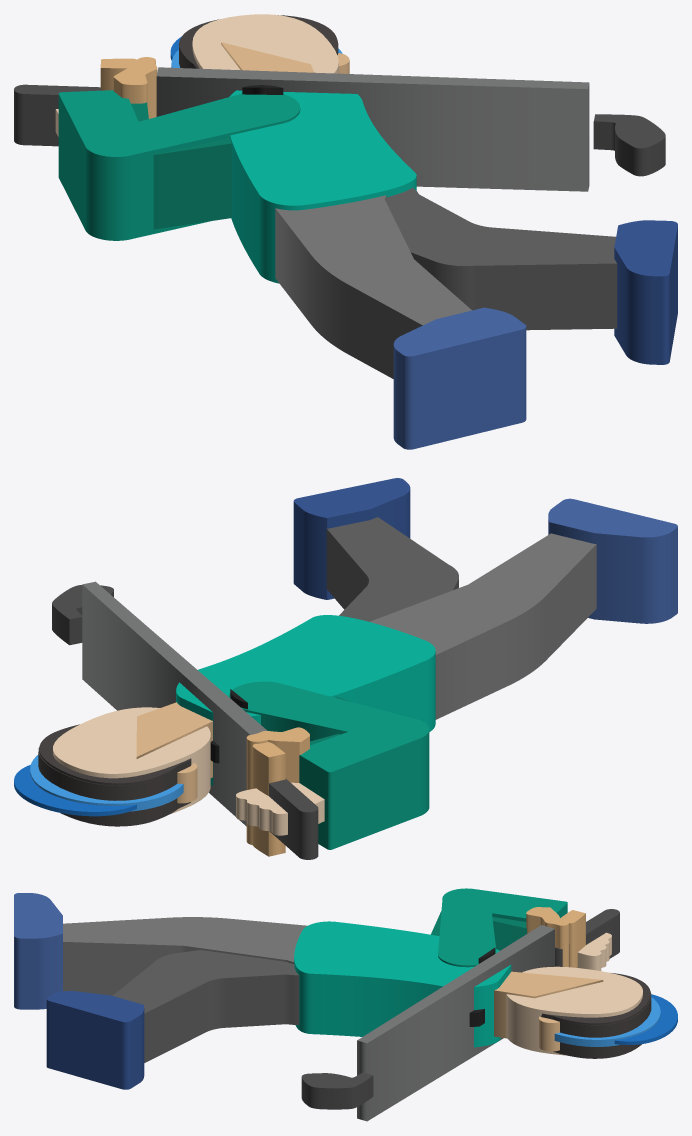
The model's file is emoji_u1f3cc_1f3fb_200d_2642.glb.
The picture shows the model from 3 angles, top to bottom: view 1: azimuth 30°, elevation 25°; view 2: azimuth 150°, elevation 25°; view 3: azimuth 270°, elevation 25°; orthographic projection. The views are drawn at different scales.
Parts seen in each view (by area): view 1: emoji_u1f3cc_1f3fb_200d_2642; view 2: emoji_u1f3cc_1f3fb_200d_2642; view 3: emoji_u1f3cc_1f3fb_200d_2642.
Part boxes in pixels (box(x1,y1,x2,y2)): emoji_u1f3cc_1f3fb_200d_2642: box(14, 14, 677, 449); emoji_u1f3cc_1f3fb_200d_2642: box(14, 478, 677, 859); emoji_u1f3cc_1f3fb_200d_2642: box(14, 888, 677, 1121).
Size of the model in its own units: 0.0216 by 0.0048 by 0.0339.
